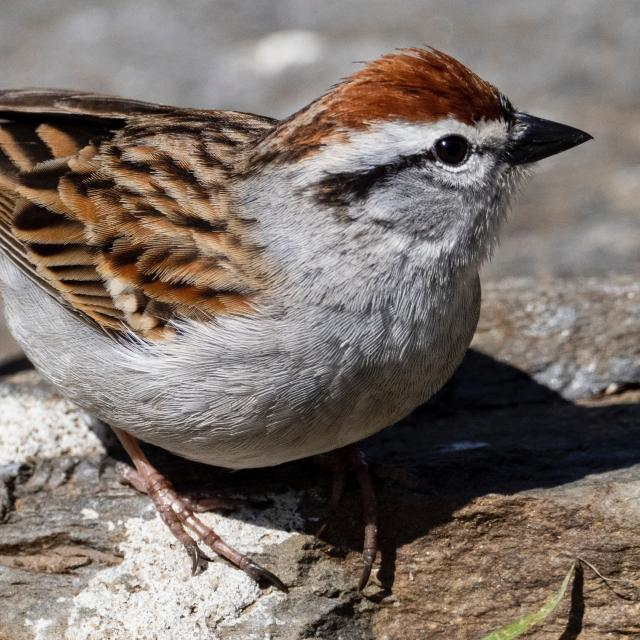Sparrow: (0, 39, 599, 542)
